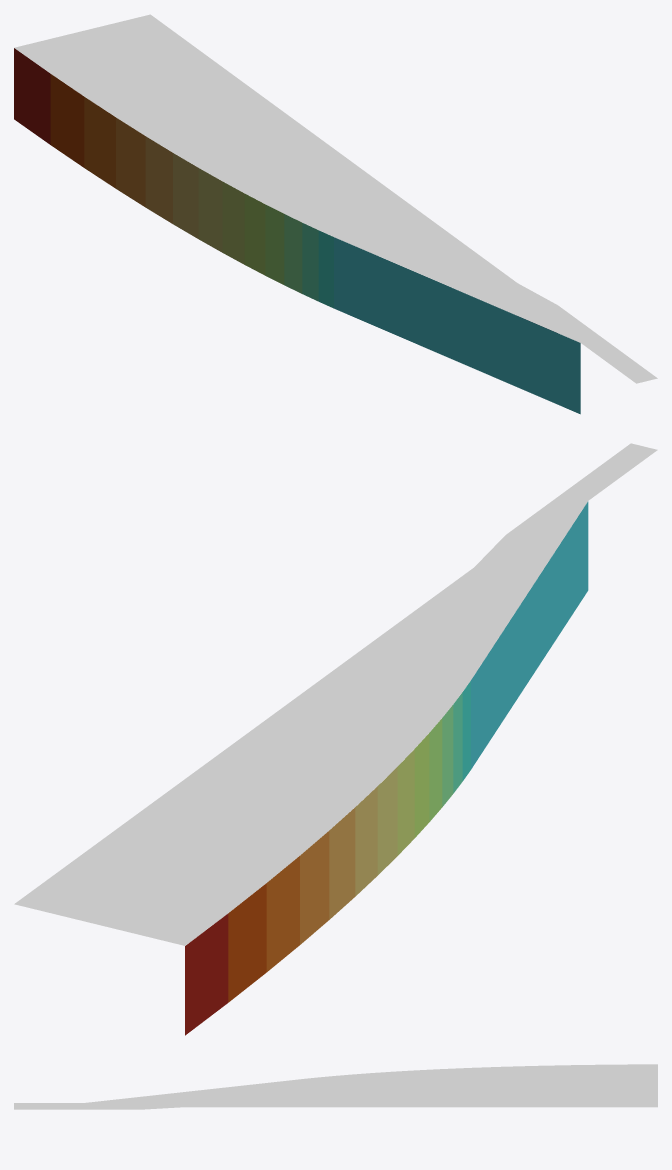
File: scramjet_n14_m2.glb
The picture shows the model from 3 angles, top to bottom: view 1: azimuth 30°, elevation 25°; view 2: azimuth 150°, elevation 25°; view 3: azimuth 270°, elevation 25°; orthographic projection. The views are drawn at different scales.
Parts seen in each view (by area): view 1: Renderer Node; view 2: Renderer Node; view 3: Renderer Node.
Part boxes in pixels (x1,y1,x2,y2): Renderer Node: (14, 14, 657, 414); Renderer Node: (14, 443, 657, 1035); Renderer Node: (14, 1064, 657, 1109).
Size of the model in its own units: 1.06 by 0.5006 by 6.34.
